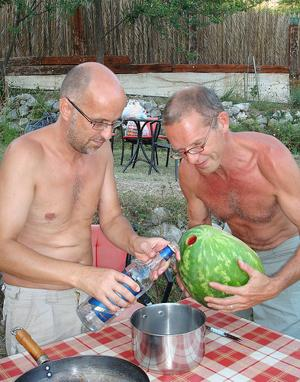person: (2, 61, 180, 356)
